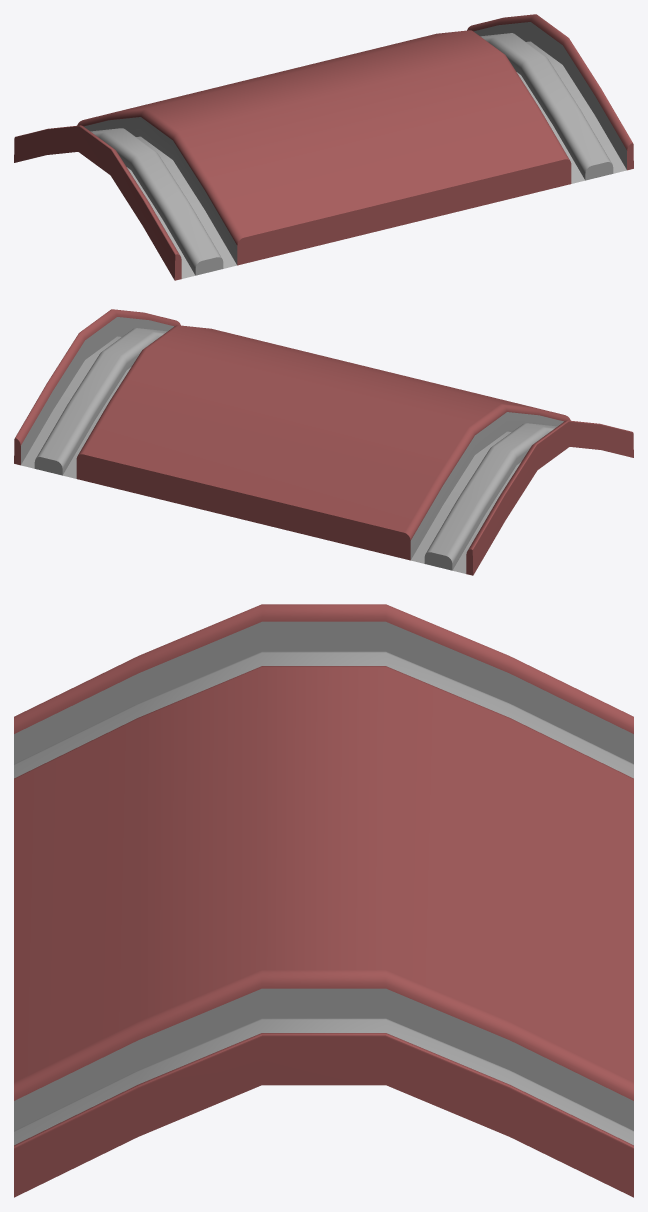
The model's file is smallBump.fbx.
The picture shows the model from 3 angles, top to bottom: view 1: azimuth 30°, elevation 25°; view 2: azimuth 150°, elevation 25°; view 3: azimuth 270°, elevation 25°; orthographic projection. The views are drawn at different scales.
Visible parts, largest first — view 1: smallBump; view 2: smallBump; view 3: smallBump.
Part boxes in pixels (x1=…): smallBump: x1=14, y1=14, x2=633, y2=280; smallBump: x1=14, y1=309, x2=633, y2=575; smallBump: x1=14, y1=604, x2=633, y2=1197.
Size of the model in its own units: 165 by 29.03 by 100.
